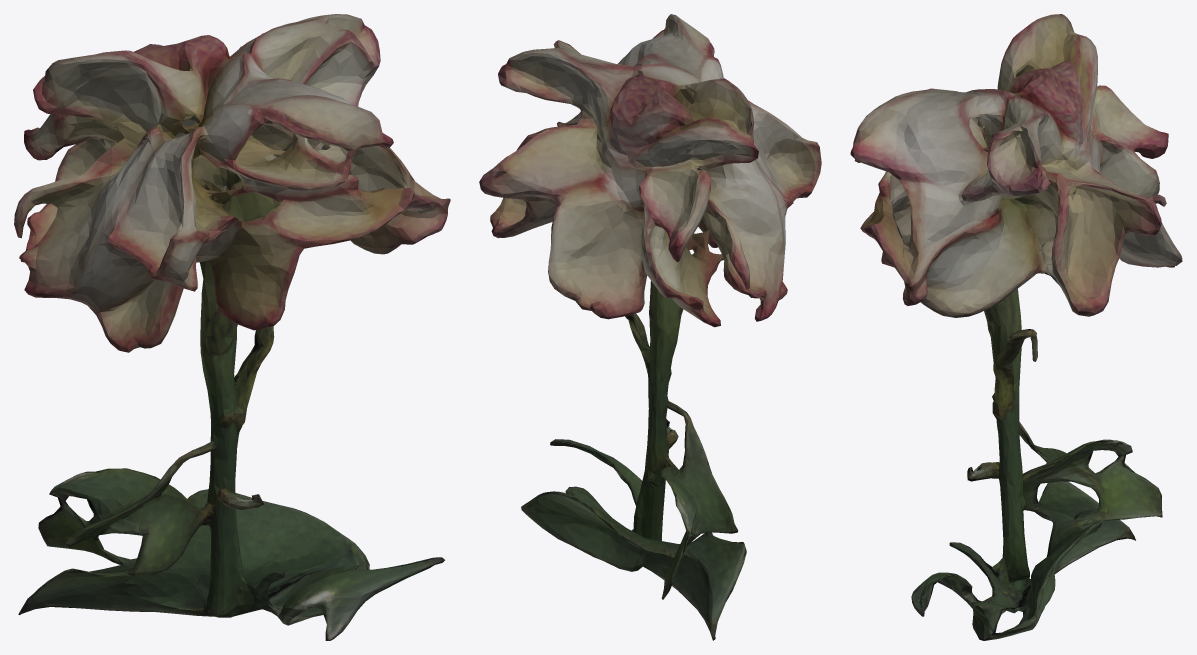
The picture shows the model from 3 angles, left to right: view 1: azimuth 30°, elevation 25°; view 2: azimuth 150°, elevation 25°; view 3: azimuth 270°, elevation 25°; orthographic projection. The views are drawn at different scales.
Visible parts, largest first — view 1: world; view 2: world; view 3: world.
Part boxes in pixels (x1,y1,x2,y2): world: (14, 14, 450, 640); world: (479, 14, 821, 640); world: (850, 14, 1182, 640).
Size of the model in its own units: 0.5515 by 0.9328 by 0.5246.
1 material, 1 textured.
